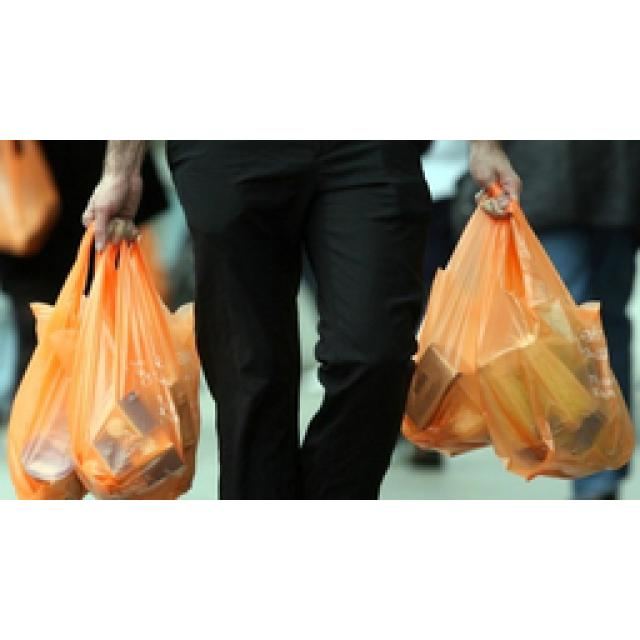plastic: (402, 202, 632, 478), (10, 228, 198, 498)
